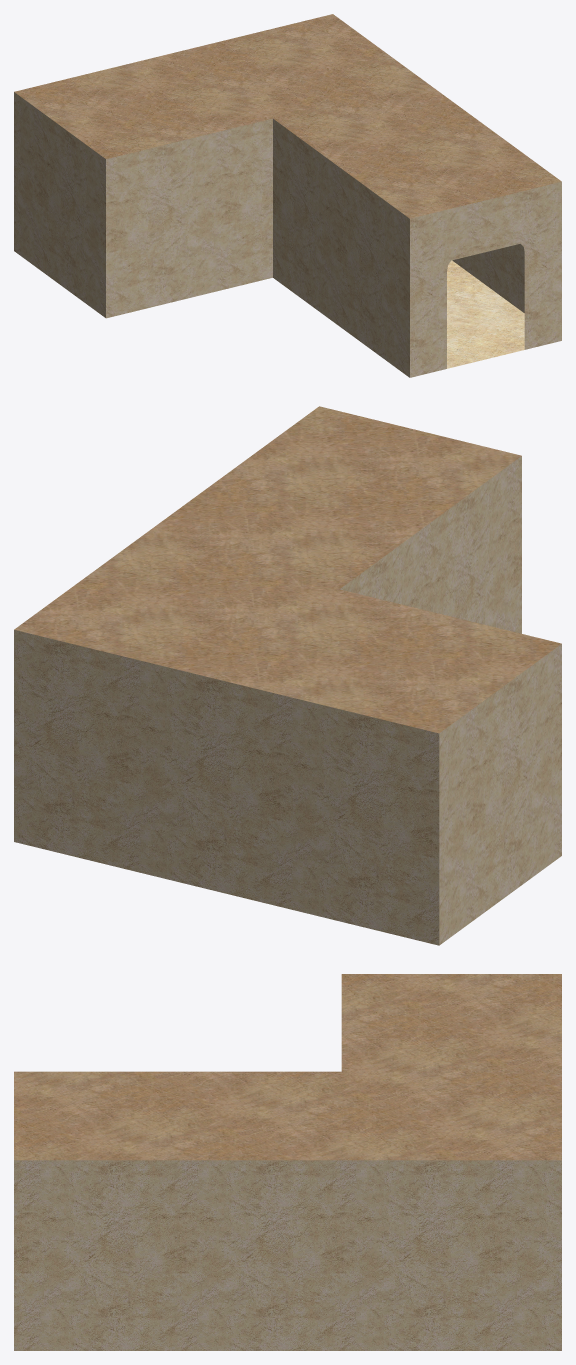
Rendered from thm_tato_imprv_building_s07_r1_foyer_mesh_l0.fbx.
The picture shows the model from 3 angles, top to bottom: view 1: azimuth 30°, elevation 25°; view 2: azimuth 150°, elevation 25°; view 3: azimuth 270°, elevation 25°; orthographic projection. The views are drawn at different scales.
Visible parts, largest first — view 1: mesh_node; view 2: mesh_node; view 3: mesh_node.
Boxes of the visible parts, left/top/right/bottom form: mesh_node: left=14, top=14, right=561, bottom=377; mesh_node: left=14, top=406, right=561, bottom=945; mesh_node: left=14, top=974, right=561, bottom=1350.
Bounding box in the file's own units: 8.39 × 4 × 10.43.
